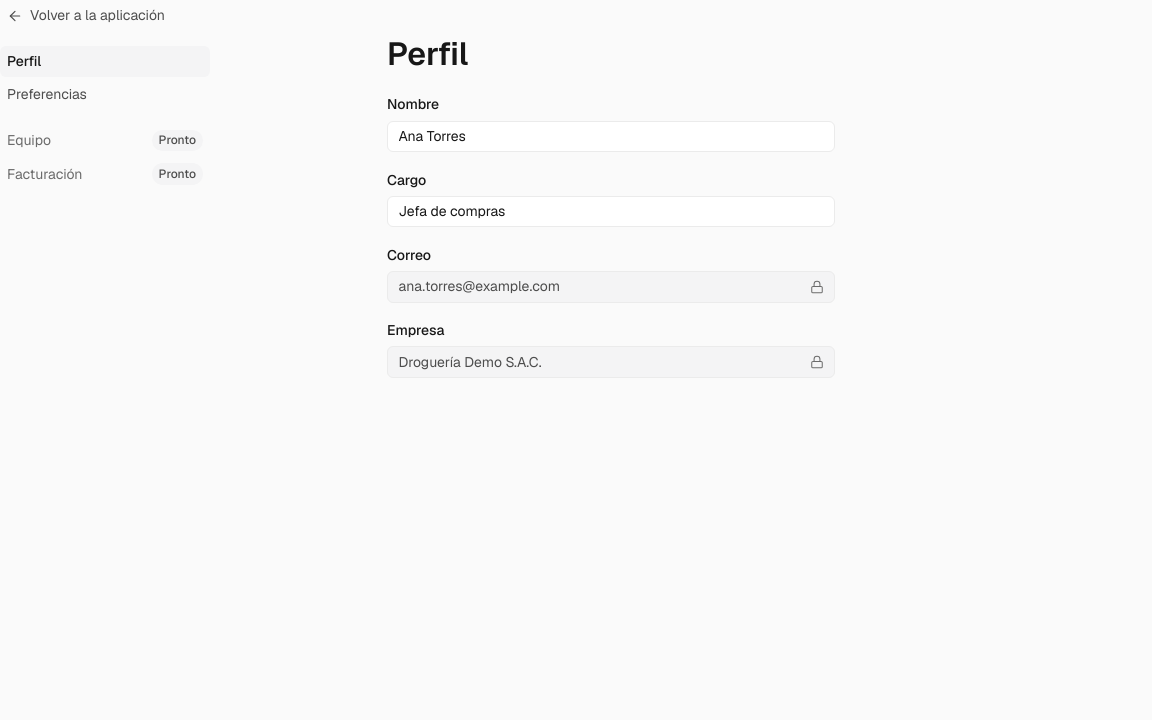
Test: leaving with unsaved changes › asks before following a link and lets the user keep editing
Type " senior" into the field labelled "Cargo". click: (611, 212)
box: left=398, top=201, right=824, bottom=222
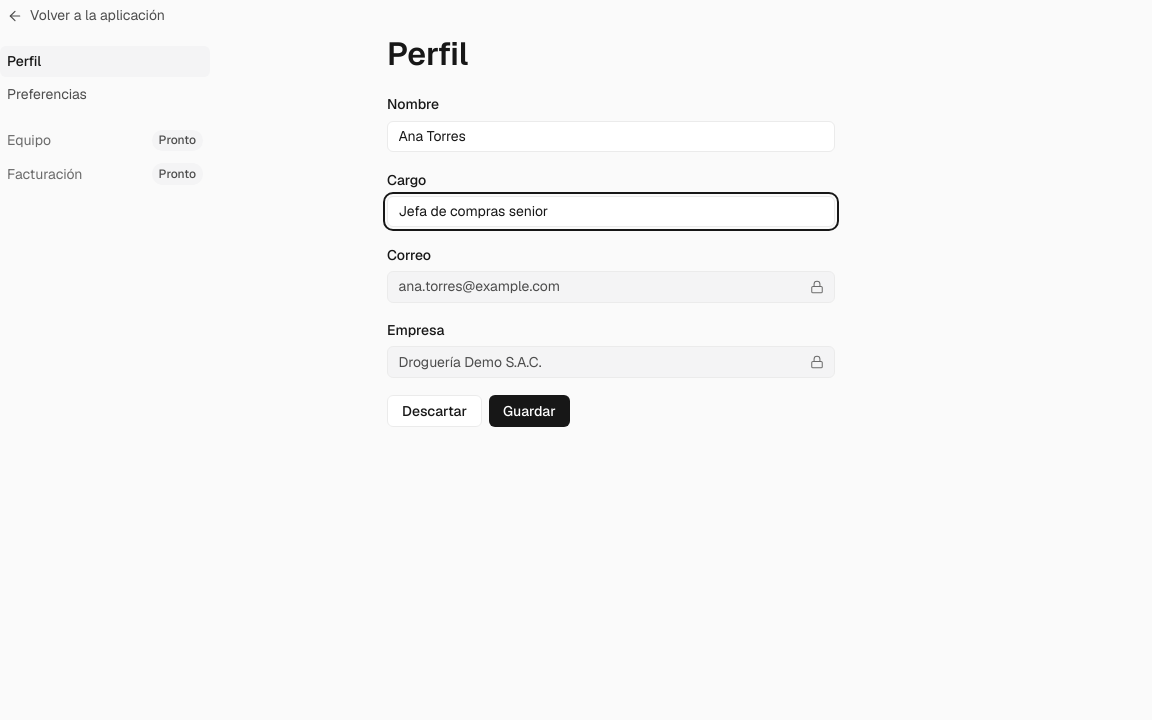
Click the link "Preferencias". click: click(47, 94)
box: left=7, top=85, right=87, bottom=103
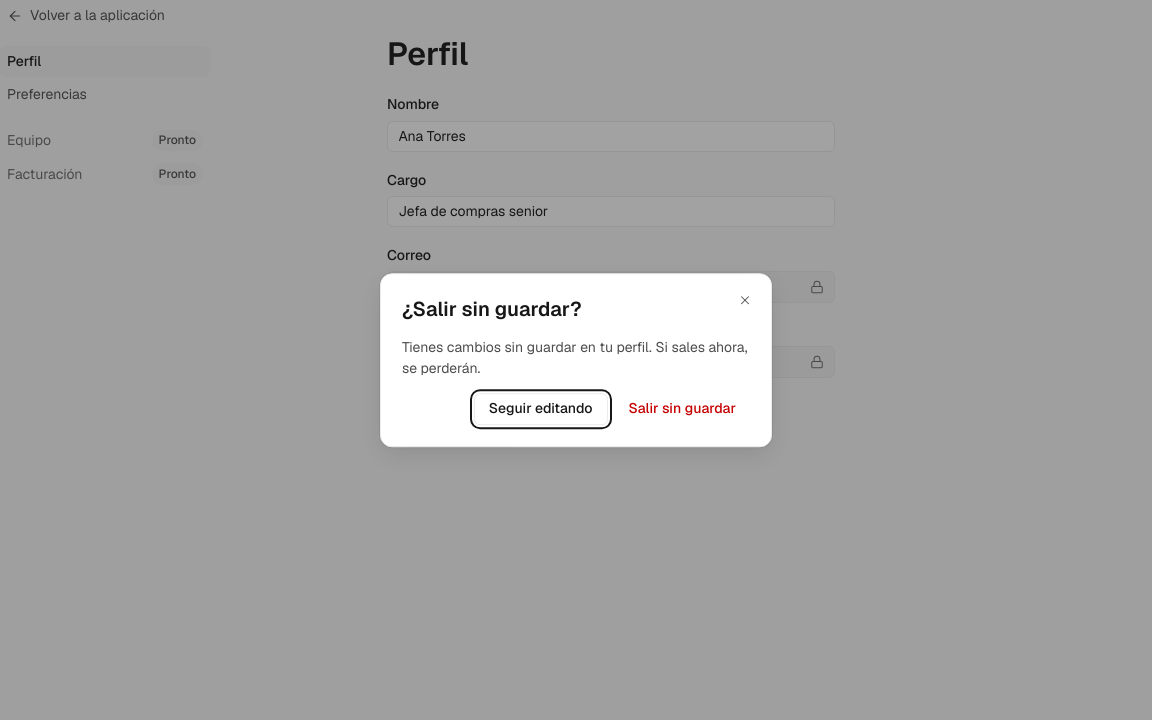
Click the button "Seguir editando". click: click(541, 409)
box: left=474, top=393, right=608, bottom=425
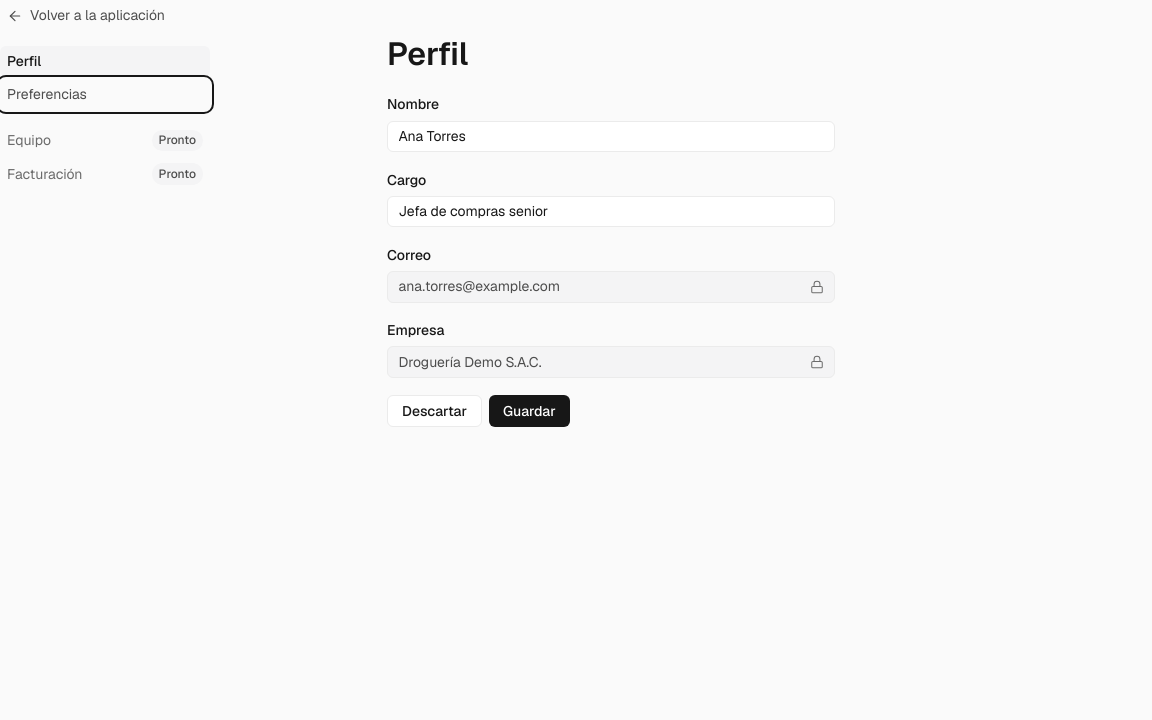
Now the field labelled "Cargo" holds "Jefa de compras senior", box left=398, top=201, right=824, bottom=222
Now the dialog is gone
